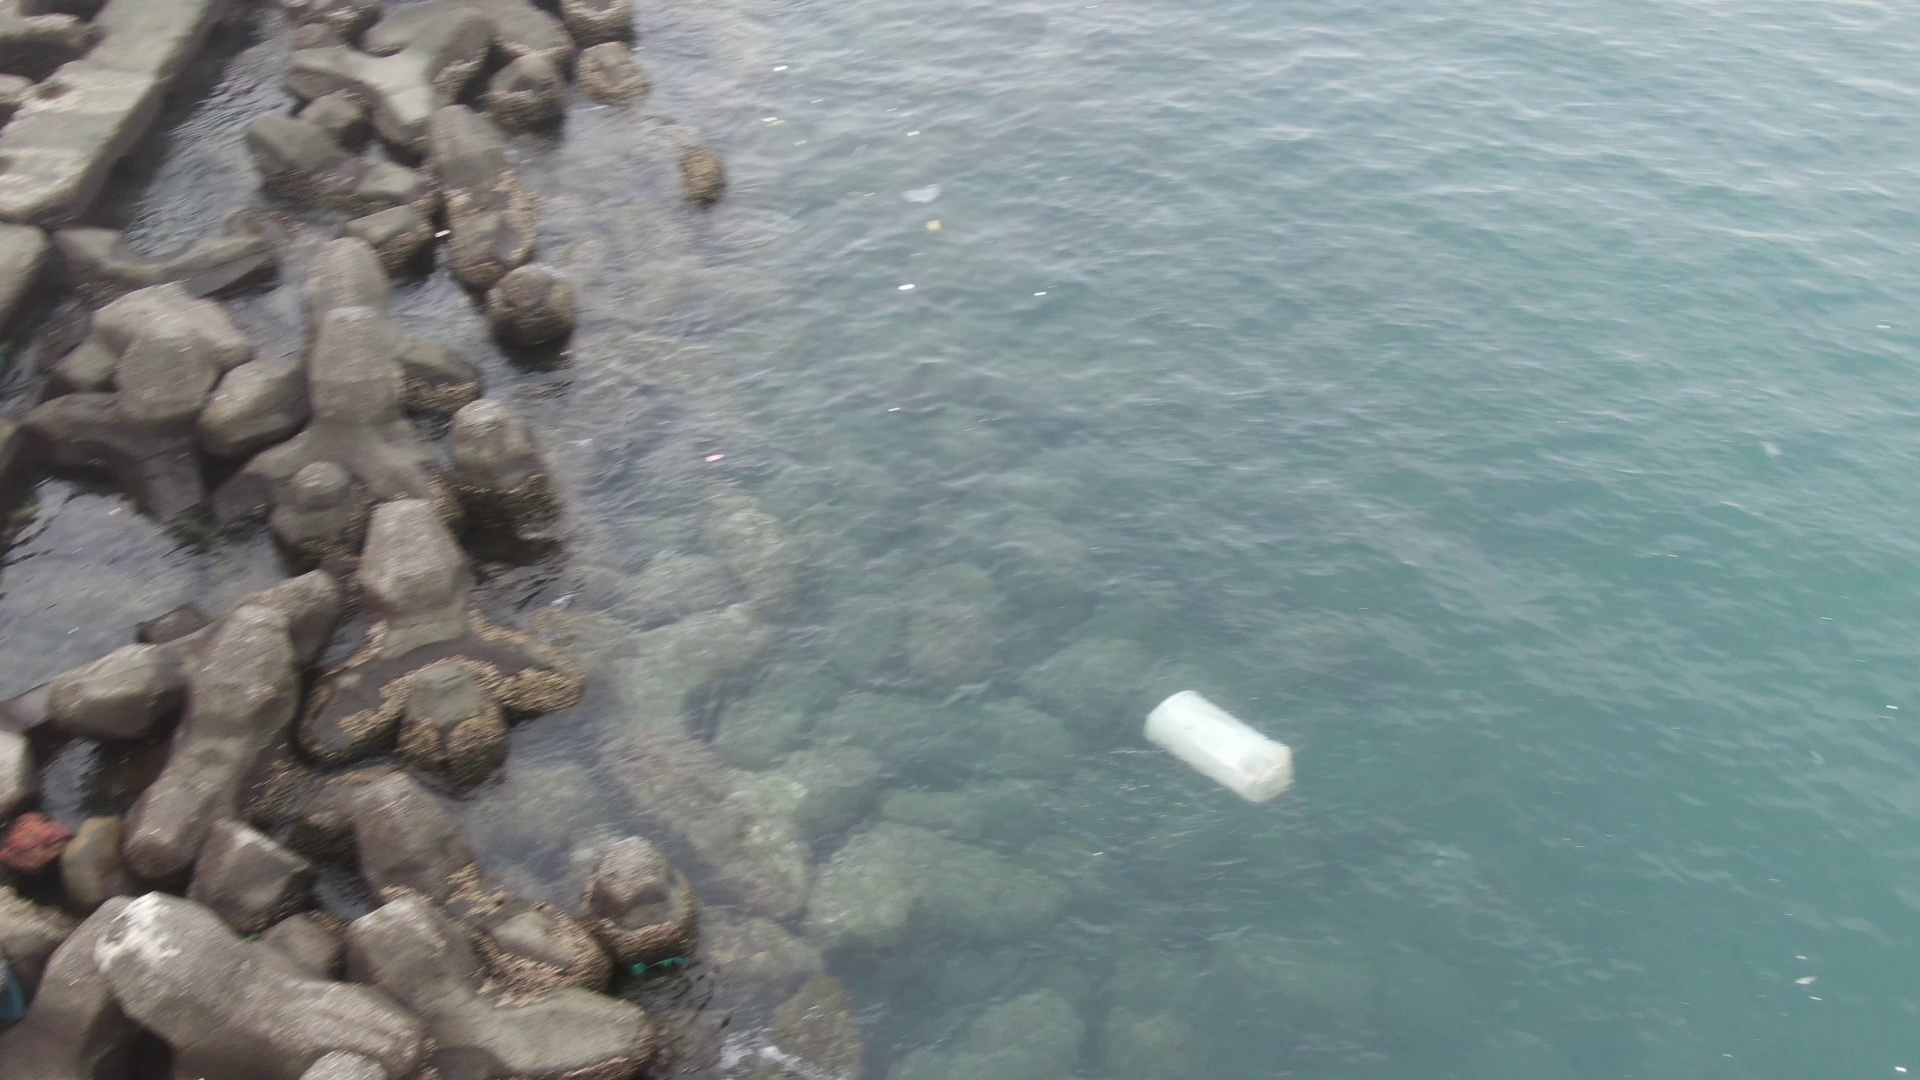garbage: (1139, 686, 1307, 810)
